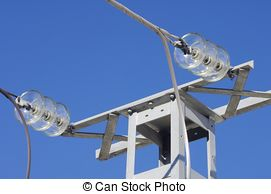isolator: (173, 32, 230, 82), (15, 89, 70, 137)
